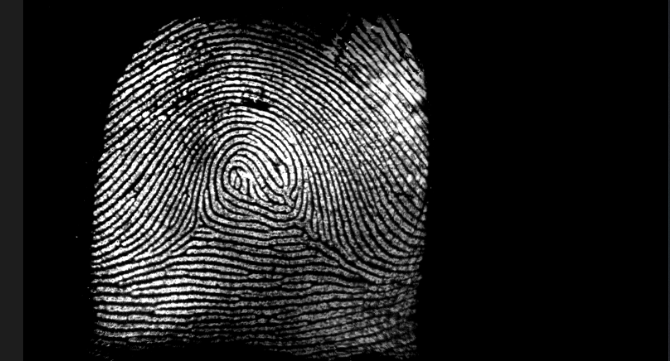deltas: (182, 203, 222, 242)
nucleo: (253, 157, 294, 200)
